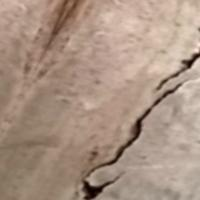crack: (73, 50, 199, 199)
